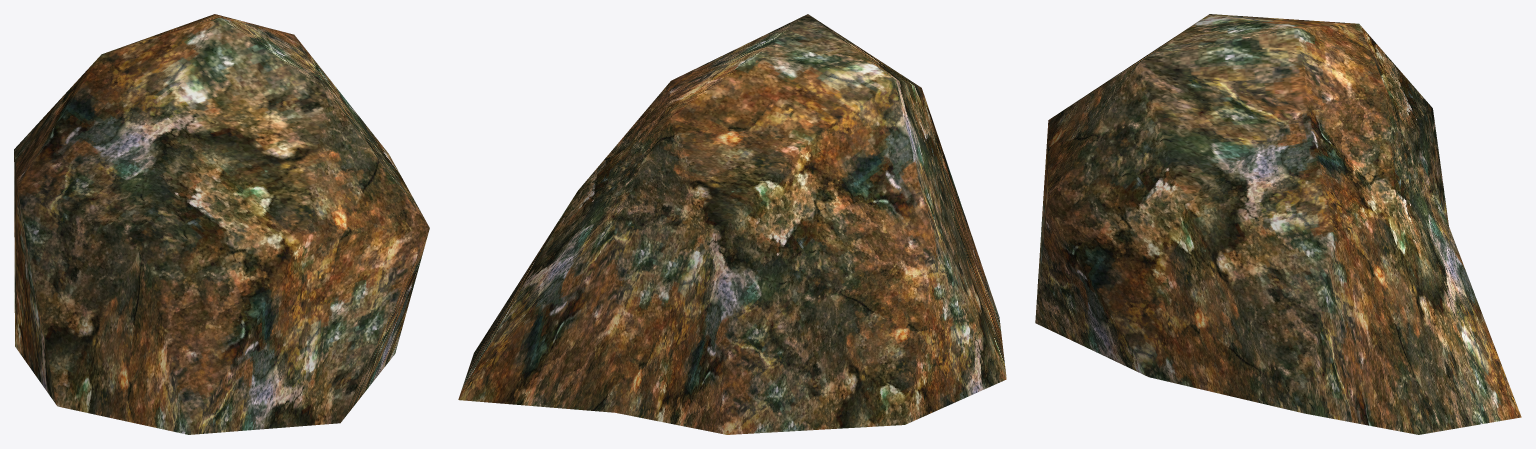
Rendered from c_stone02.glb.
3 renders of one model, left to right at view 1: azimuth 30°, elevation 25°; view 2: azimuth 150°, elevation 25°; view 3: azimuth 270°, elevation 25°, orthographic.
Visible parts, largest first — view 1: c_stone02; view 2: c_stone02; view 3: c_stone02.
Boxes of the visible parts, x1,y1,x2,y2 form: c_stone02: (14, 14, 429, 434); c_stone02: (458, 14, 1006, 434); c_stone02: (1035, 14, 1521, 434).
Bounding box in the file's own units: 1.37 × 0.9357 × 1.37.
1 material, 1 textured.
